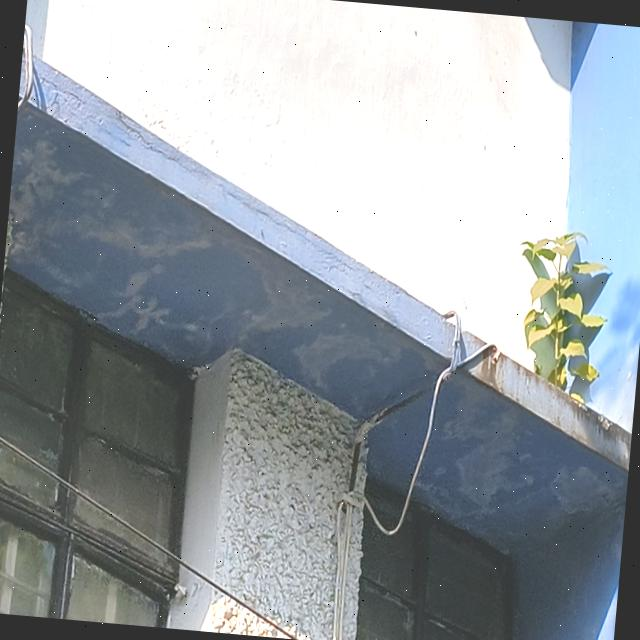Crack: (102, 111, 361, 274), (40, 74, 86, 107)
pollution -moisture induced blackening: (463, 334, 631, 469)
